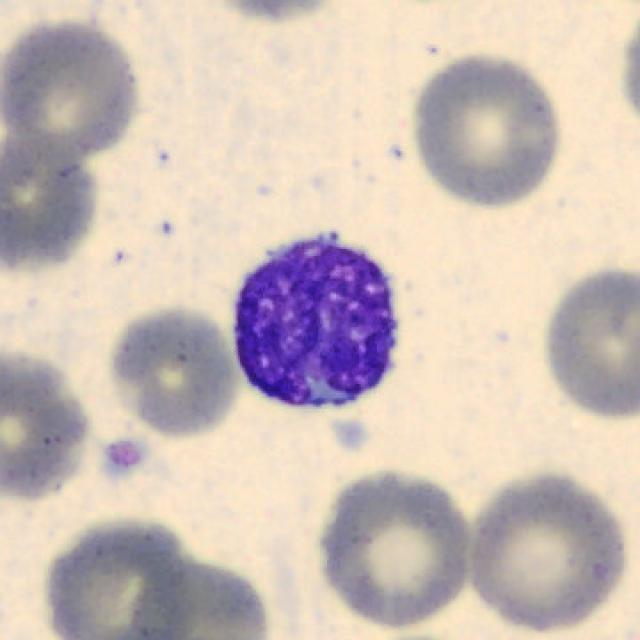Linfocito: (235, 233, 398, 409)
